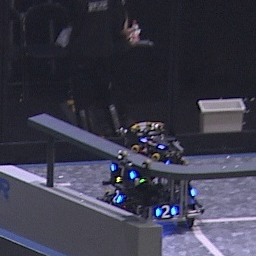Blue: (110, 161, 136, 180), (154, 205, 176, 218), (112, 189, 124, 205)
Robot: (103, 118, 204, 230)
